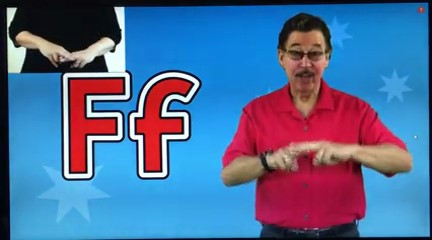F: (271, 137, 350, 175), (40, 33, 94, 70)
